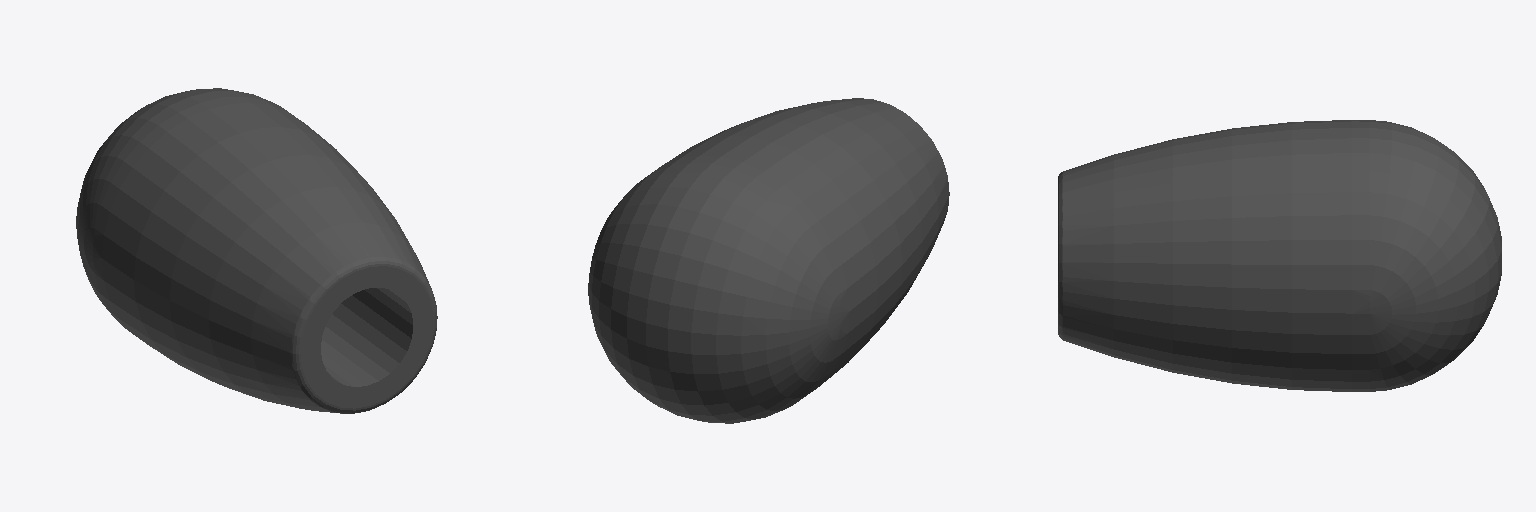
File: ganter_gn_719_1-33-b12.obj
3 views of the same model, side by side, from view 1: azimuth 30°, elevation 25°; view 2: azimuth 150°, elevation 25°; view 3: azimuth 270°, elevation 25° (orthographic).
Parts seen in each view (by area): view 1: ganter_gn_719_1-33-b12_1; view 2: ganter_gn_719_1-33-b12_1; view 3: ganter_gn_719_1-33-b12_1.
Boxes of the visible parts, box(x1,y1,x2,y2) form: ganter_gn_719_1-33-b12_1: box(76, 88, 437, 413); ganter_gn_719_1-33-b12_1: box(588, 98, 949, 423); ganter_gn_719_1-33-b12_1: box(1058, 120, 1501, 391).
Bounding box in the file's own units: 33.04 × 32.9 × 53.86.